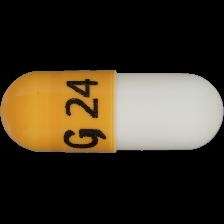61919-591: (0, 0, 224, 224)
